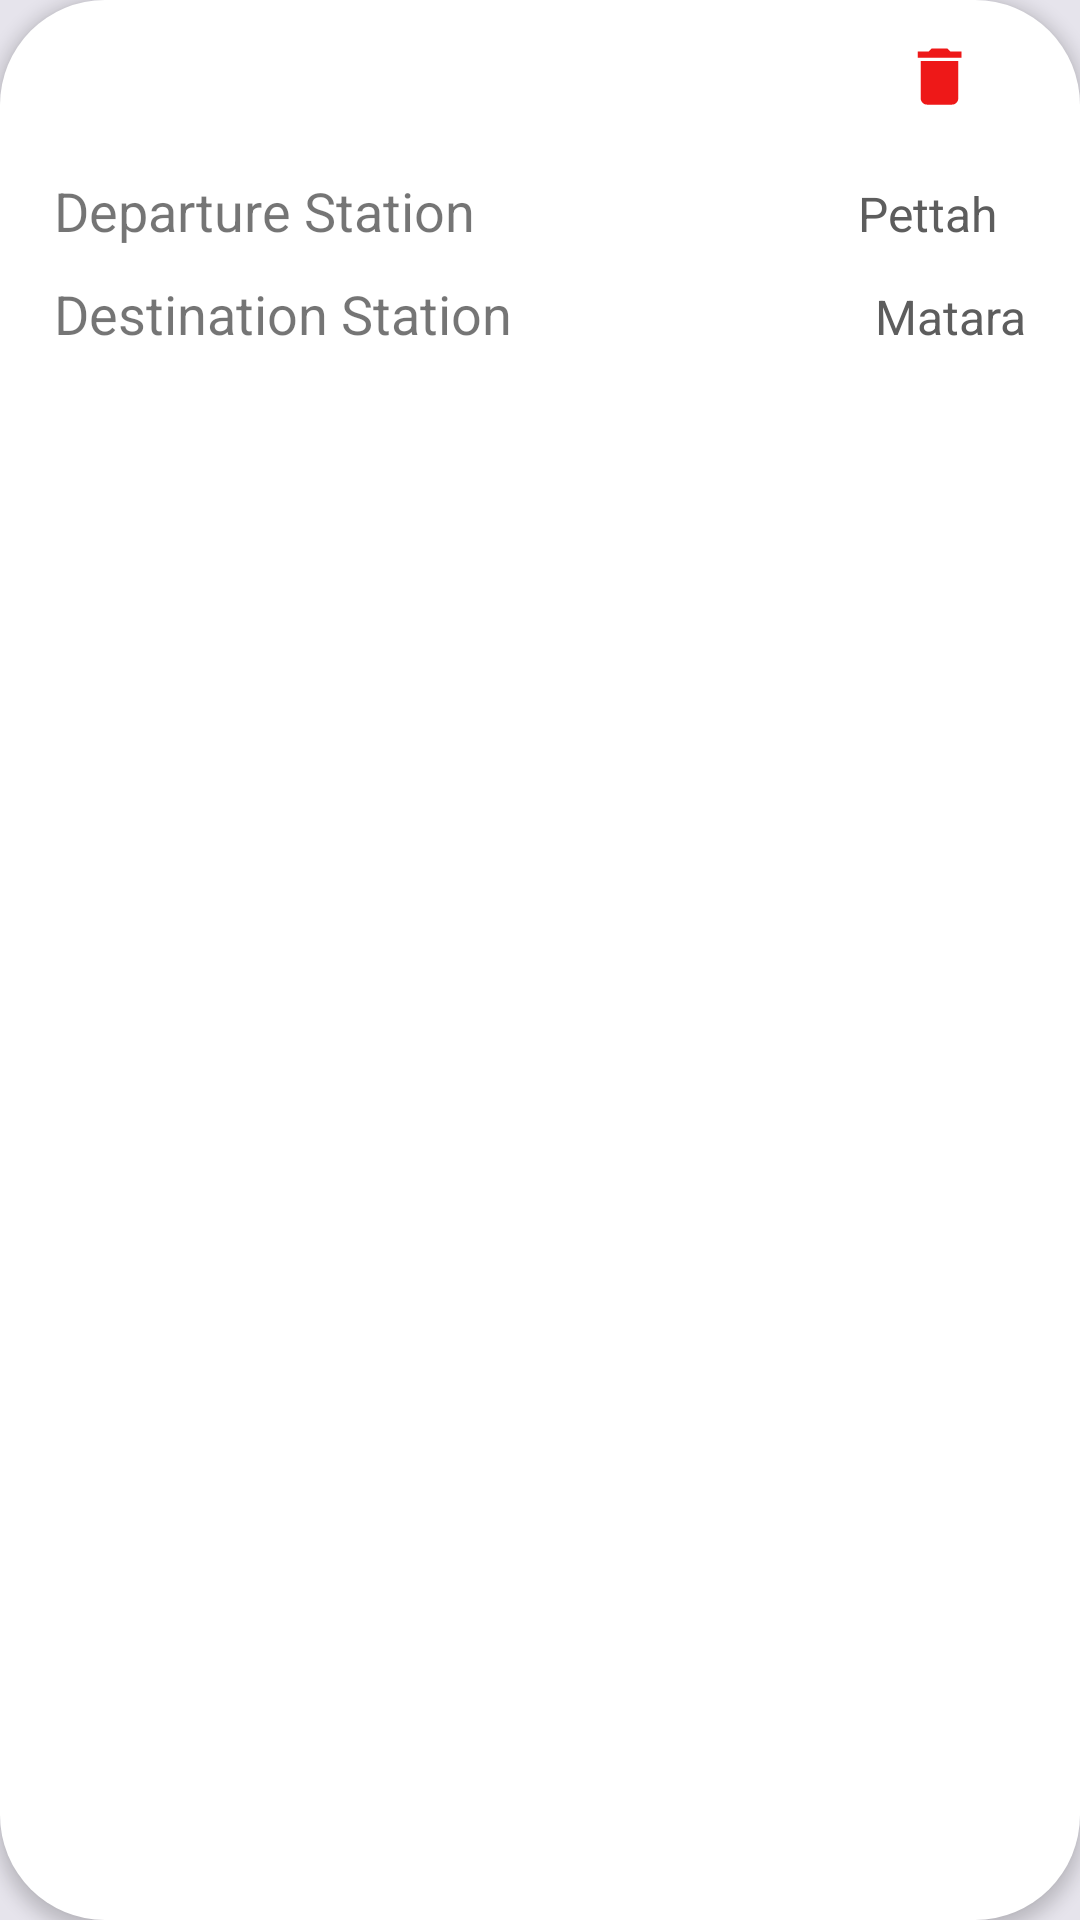

Locate icon controls on the screen. Image size 1080 × 1920, boxes as (x1, y1, x2, y2).
trash: (917, 48, 962, 105)
